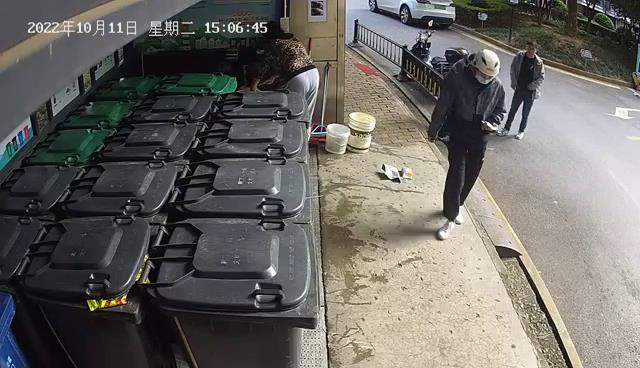person: (424, 47, 510, 244), (246, 18, 328, 152), (493, 38, 549, 143)
zhizhipin: (379, 159, 403, 187), (400, 165, 414, 182)
